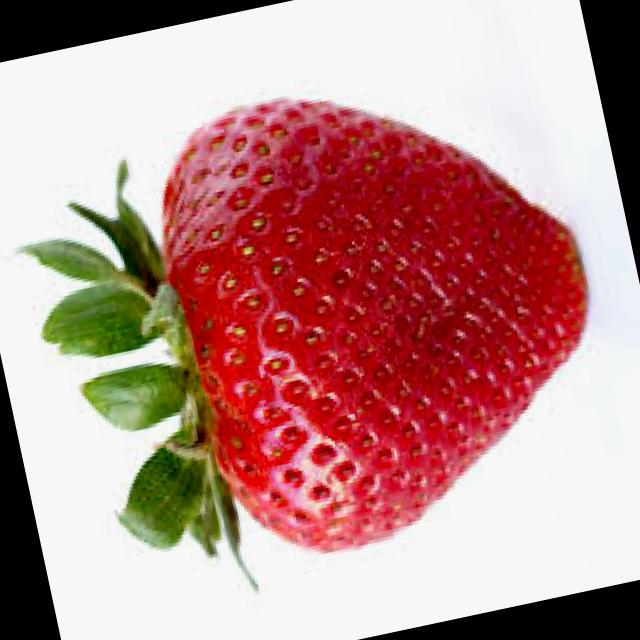strawberry: (53, 19, 640, 640)
